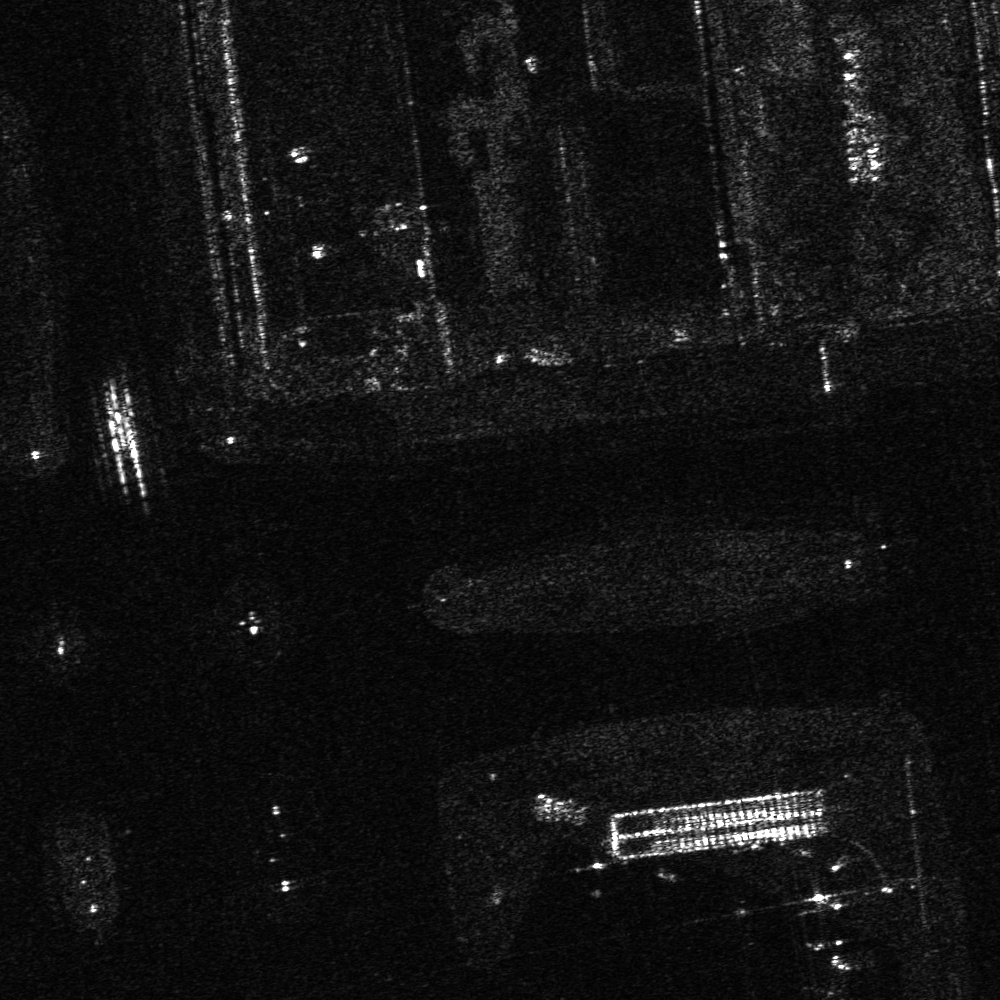Boeing787: (773, 964, 869, 999)
